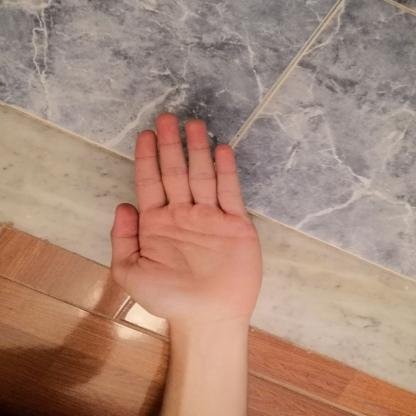SEEN: (99, 104, 272, 331)
